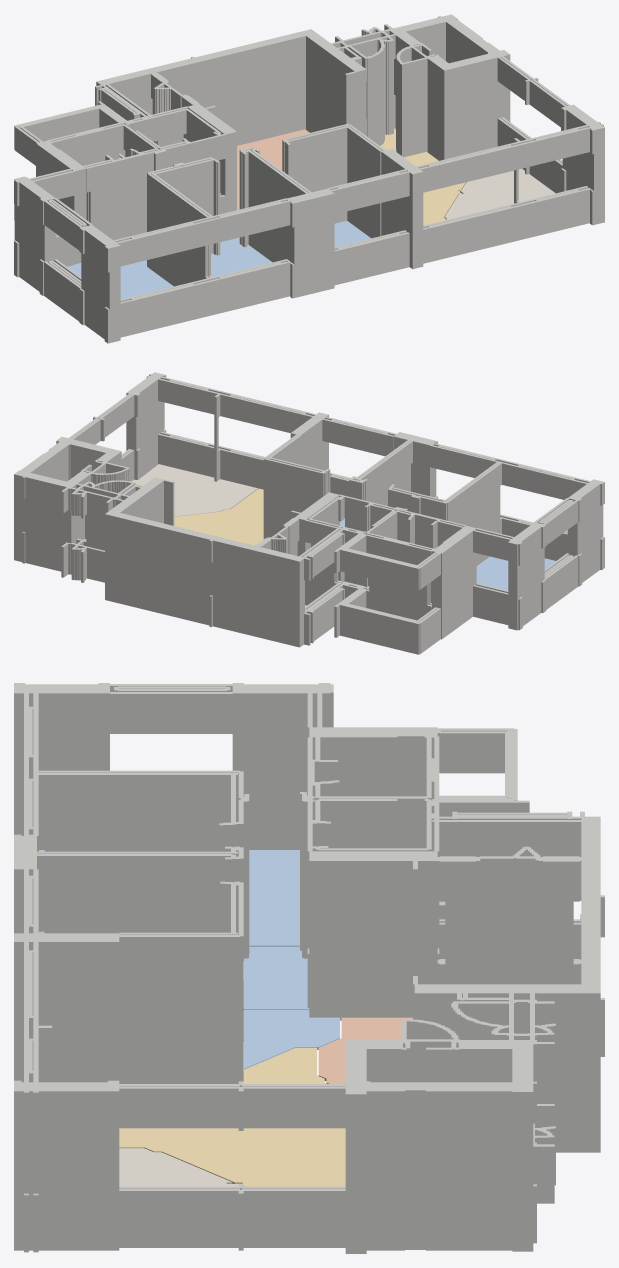
3 renders of one model, top to bottom at view 1: azimuth 30°, elevation 25°; view 2: azimuth 150°, elevation 25°; view 3: azimuth 270°, elevation 25°, orthographic. The views are drawn at different scales.
Visible parts, largest first — view 1: walls, room:other:6, room:living:8, room:bedroom:7, room:bedroom:4, room:kitchen:9, room:bedroom:5; view 2: walls, room:other:6, room:living:8, room:bedroom:7; view 3: walls, room:living:8, room:bedroom:7, room:bedroom:5, room:bedroom:4, room:other:6, room:kitchen:9.
Boxes of the visible parts, x1,y1,x2,y2 form: walls: (14,14,604,343); room:other:6: (444,168,555,219); room:living:8: (380,128,466,225); room:bedroom:7: (67,260,173,299); room:bedroom:4: (211,237,272,276); room:kitchen:9: (237,129,309,209); room:bedroom:5: (334,221,370,247); walls: (14,372,604,654); room:other:6: (131,464,257,516); room:living:8: (174,488,263,545); room:bedroom:7: (476,556,555,590); walls: (14,683,604,1253); room:living:8: (119,1047,345,1186); room:bedroom:7: (39,850,299,946); room:bedroom:5: (243,1009,339,1069); room:bedroom:4: (39,931,309,1009); room:other:6: (119,1148,238,1186); room:kitchen:9: (318,1017,412,1083).
Size of the model in its own units: 15.48 by 2.8 by 9.4.
